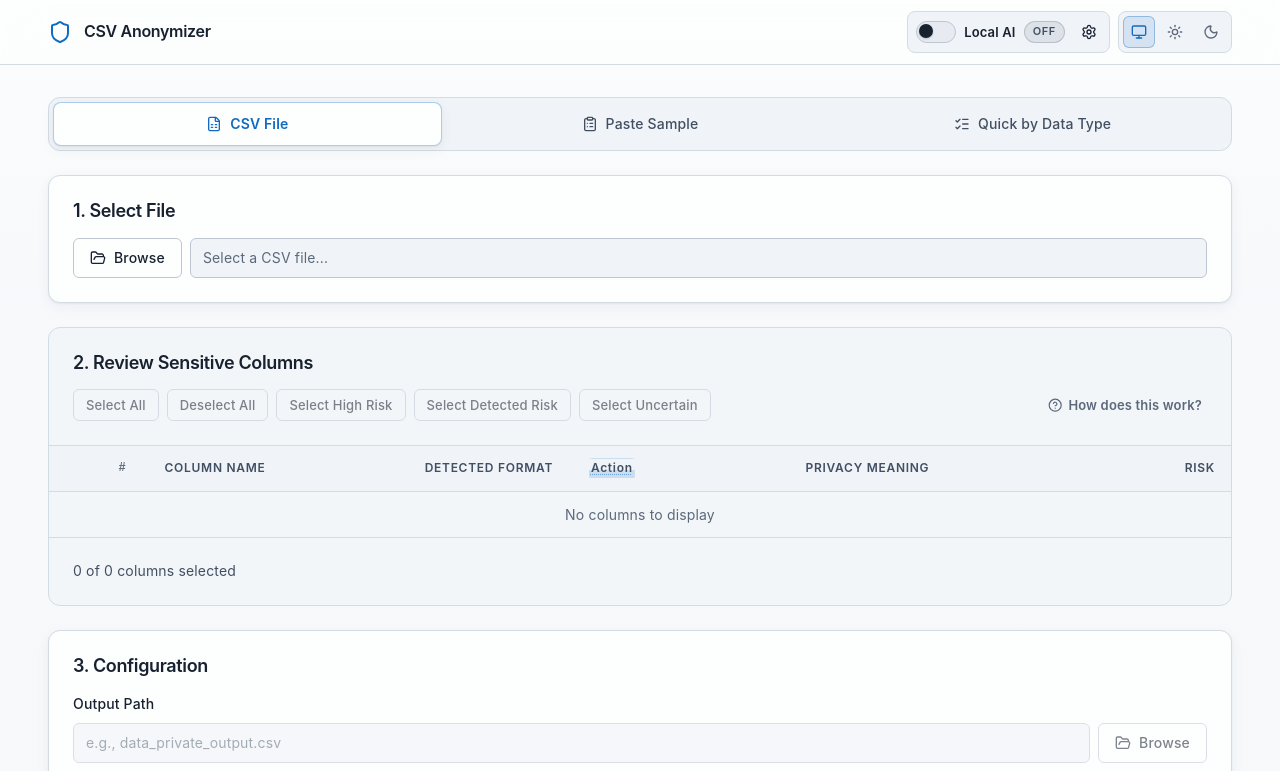
App input mode tabs › disables Select Detected Risk in the CSV workflow when no risky columns are detected
Click the button with aria-label "browse for csv file" at (127, 258), box [73,238,182,278]
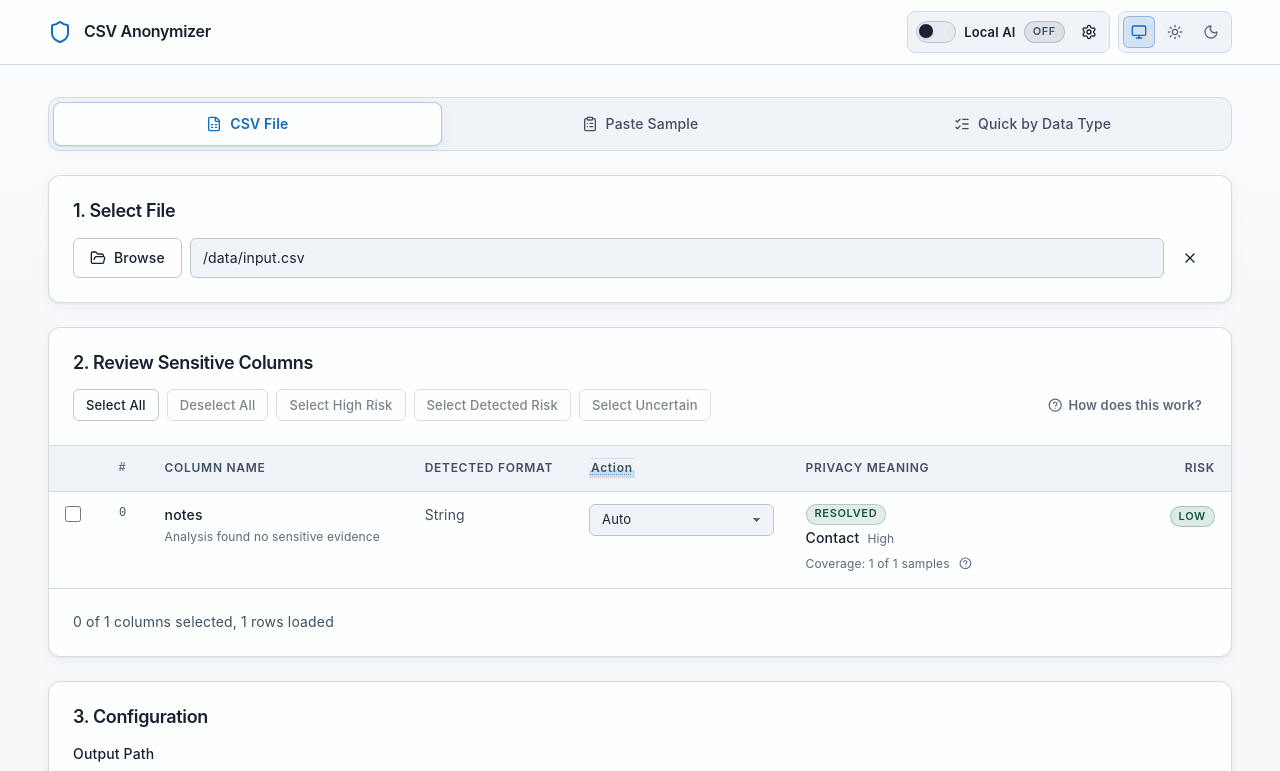
Expected: the button "Select Detected Risk" is disabled, [414,389,571,421]
Result: the text "notes" is shown at [164,504,203,526]
Result: the button "Select All" is enabled at [73,389,159,421]
